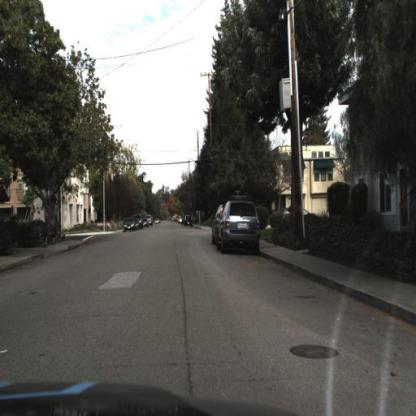car: (218, 191, 266, 263), (207, 197, 226, 261), (213, 201, 227, 251), (121, 217, 137, 235)
